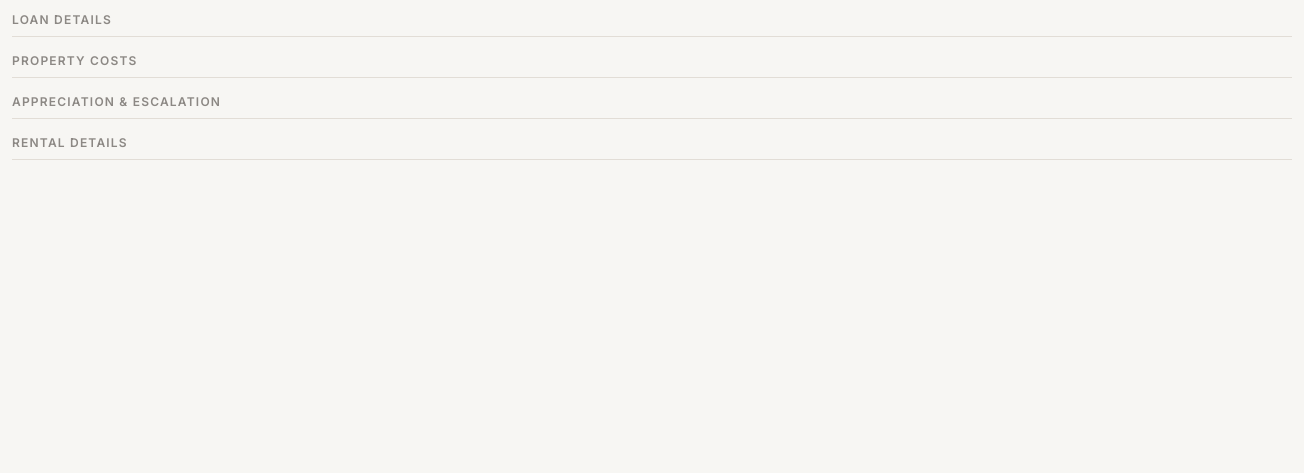
Test: AdvancedInputs › S14-11: Utilities tooltip includes the same-property-type note
This screenshot has width=1304, height=473.
Click the heading "Appreciation & Escalation": x=117, y=102 x1=12 y1=94 x2=1292 y2=119
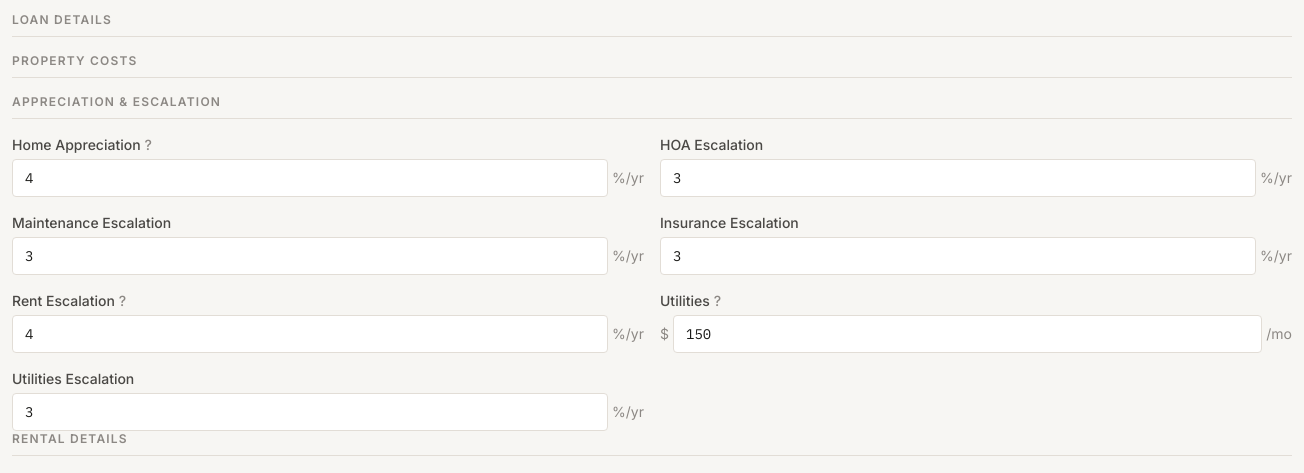
Focus the button named "More information about Utilities": x=718, y=301 x1=714 y1=291 x2=721 y2=311
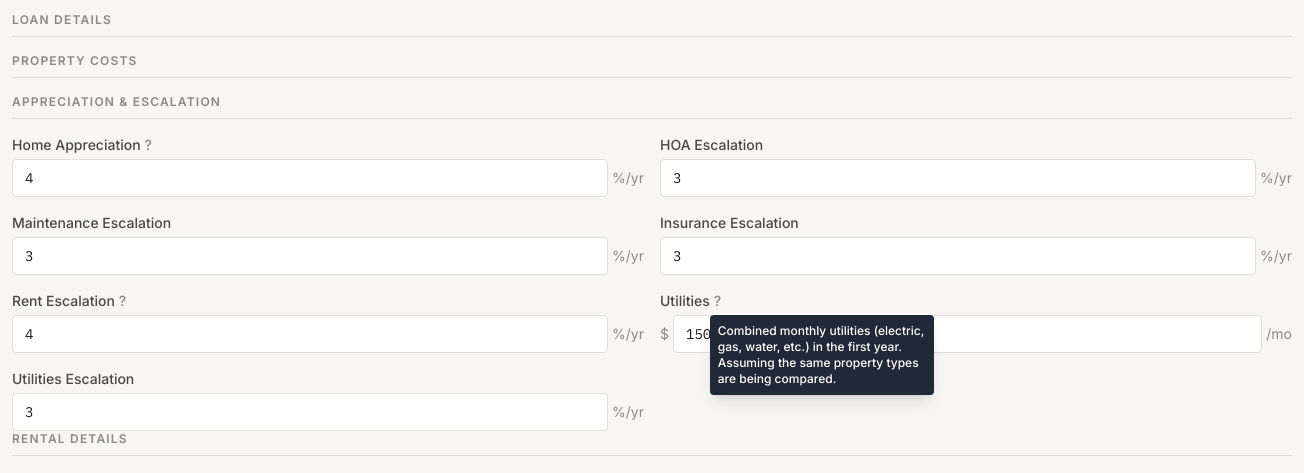
Check: the tooltip shows "Assuming the same property types are being compared.", box x1=718 y1=323 x2=924 y2=386
